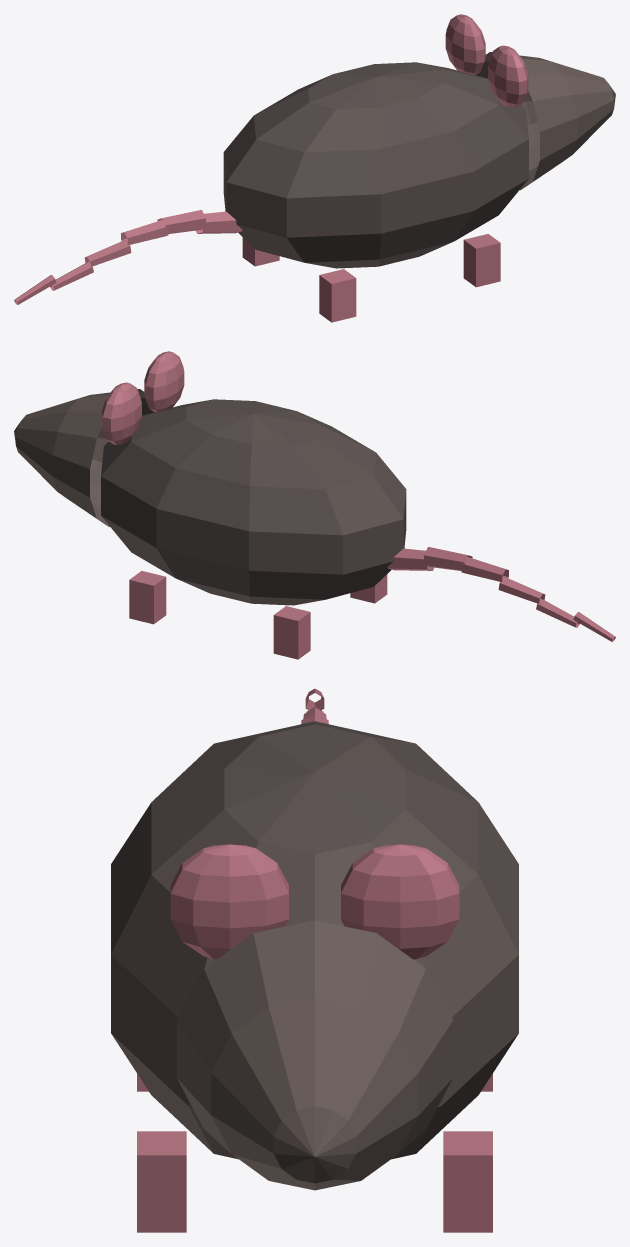
Rendered from m_rat.glb.
3 views of the same model, one above another, from view 1: azimuth 30°, elevation 25°; view 2: azimuth 150°, elevation 25°; view 3: azimuth 270°, elevation 25° (orthographic). The views are drawn at different scales.
Visible parts, largest first — view 1: m_rat; view 2: m_rat; view 3: m_rat.
Part boxes in pixels (x1,y1,x2,y2): m_rat: (14,14,615,322); m_rat: (14,351,615,659); m_rat: (111,688,518,1232).
Bounding box in the file's own units: 1.96 × 0.65 × 0.5749.
